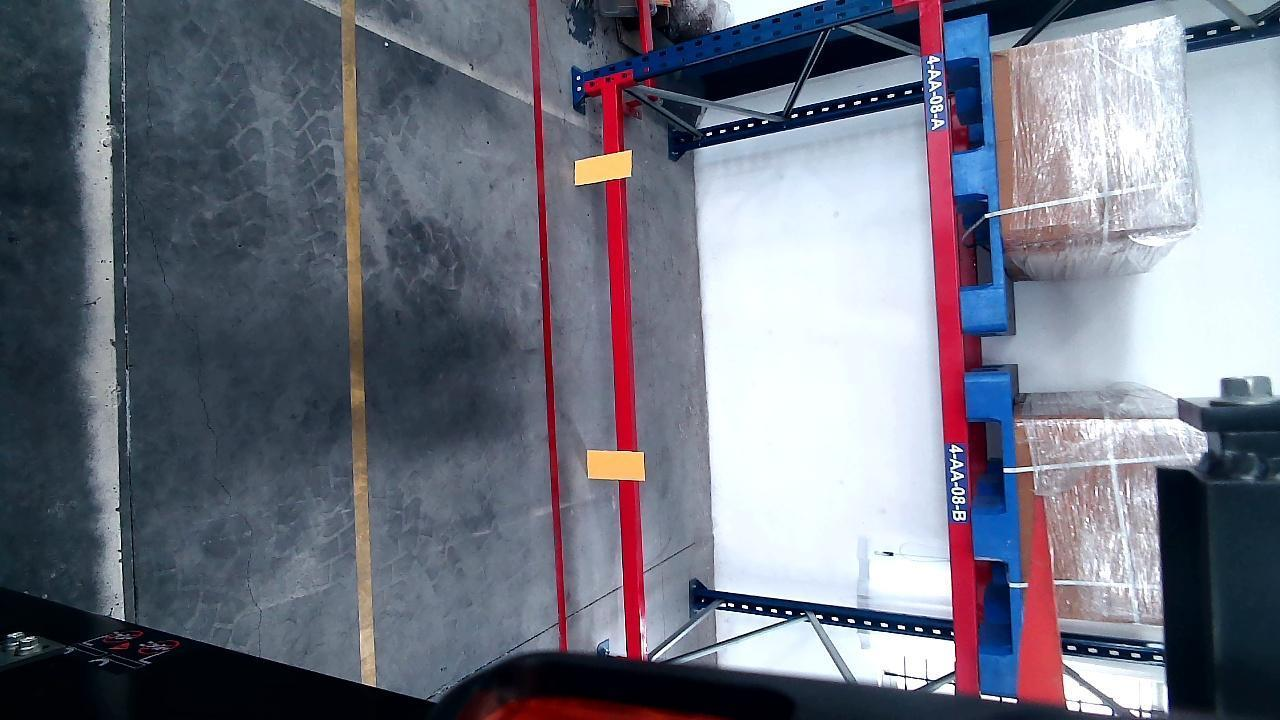h_rack: (922, 0, 979, 696), (602, 82, 640, 644)
orange_strip: (575, 150, 631, 184), (588, 447, 645, 479)
red_line: (530, 6, 568, 649)
small_pallet: (969, 381, 1033, 685), (945, 9, 1004, 328)
yellow_line: (341, 0, 384, 683)
